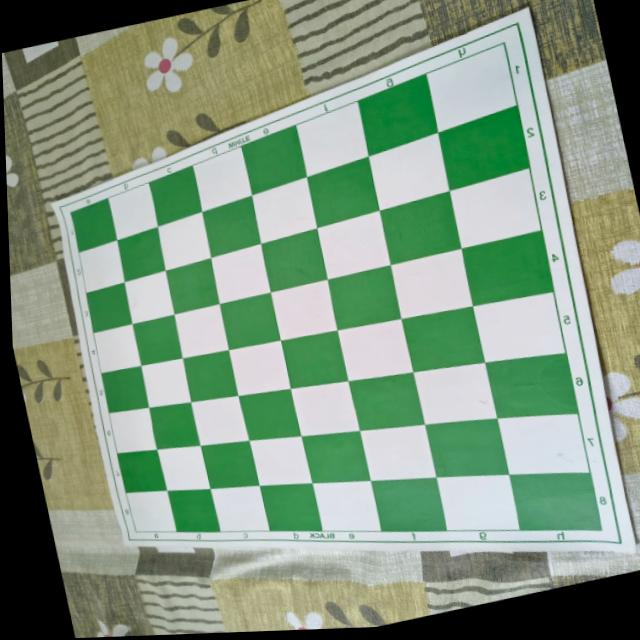square: (426, 41, 516, 131), (438, 104, 529, 189), (449, 167, 541, 247), (461, 229, 553, 305), (356, 72, 438, 155), (472, 290, 566, 361), (367, 131, 449, 210), (379, 189, 461, 264), (485, 351, 578, 417), (390, 247, 473, 317), (497, 412, 589, 474), (295, 99, 368, 176), (401, 305, 484, 371), (413, 361, 497, 423), (509, 472, 600, 529), (306, 155, 379, 226), (316, 209, 391, 278), (425, 417, 508, 476), (327, 263, 401, 329), (338, 317, 412, 380), (436, 473, 519, 529), (241, 124, 306, 194), (347, 371, 424, 430), (252, 175, 317, 242), (359, 423, 436, 479), (261, 227, 327, 291), (371, 476, 447, 530), (270, 278, 337, 339), (192, 145, 252, 211), (280, 329, 347, 387), (290, 380, 359, 435), (201, 194, 261, 256), (300, 430, 370, 482), (211, 243, 270, 303), (219, 291, 280, 349), (311, 480, 381, 530), (228, 339, 290, 394), (149, 164, 202, 225), (238, 387, 300, 438), (249, 435, 312, 485), (158, 210, 210, 269), (174, 302, 229, 357), (165, 257, 219, 313), (259, 482, 322, 530), (107, 181, 158, 239), (191, 394, 249, 445), (182, 349, 237, 401), (200, 439, 259, 487), (210, 484, 269, 530), (117, 225, 166, 280), (125, 270, 174, 323), (132, 313, 182, 364), (140, 357, 191, 407), (71, 197, 117, 251), (78, 238, 124, 292), (157, 444, 210, 490), (148, 401, 199, 448), (166, 487, 220, 530), (86, 281, 132, 331), (93, 323, 140, 371), (101, 365, 149, 411), (109, 406, 157, 452), (116, 449, 167, 491), (125, 489, 176, 530)
